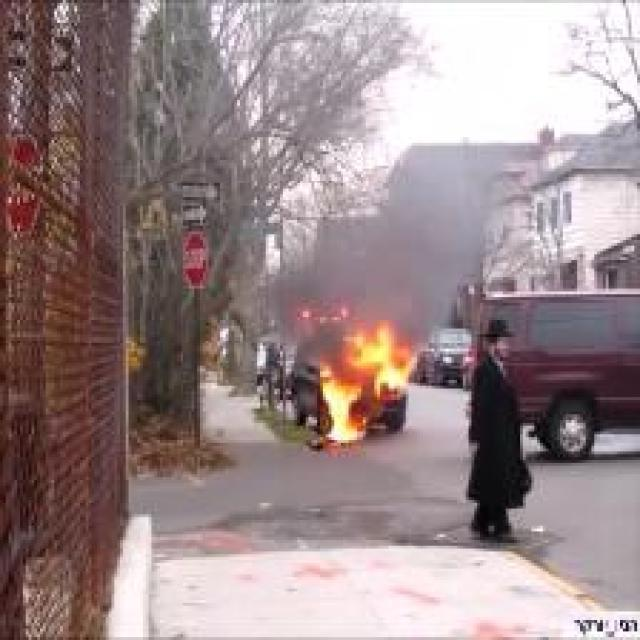Fire: (316, 380, 374, 443), (361, 322, 406, 390)
